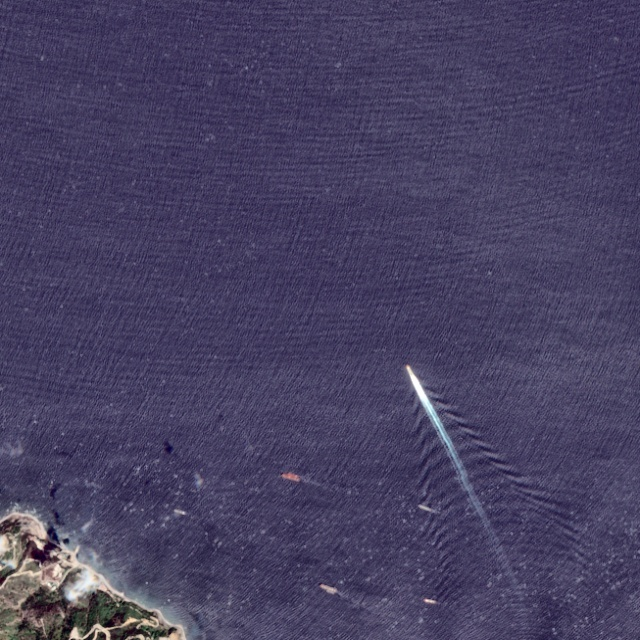wake: (351, 324, 548, 566)
